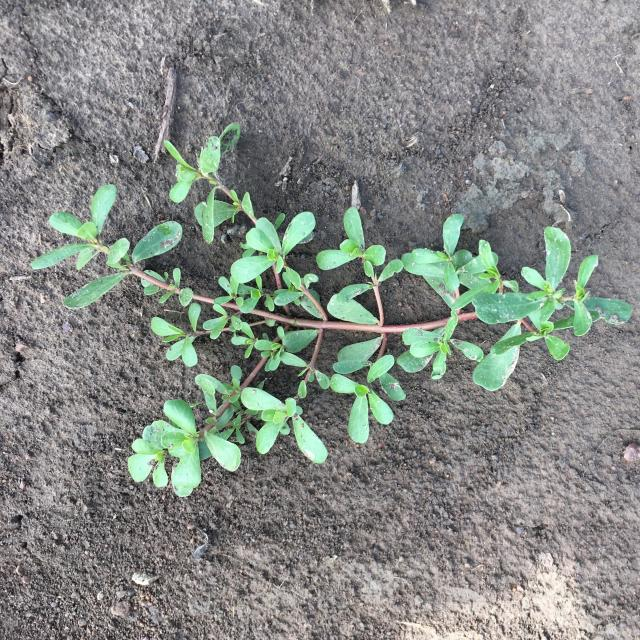Purslane: (29, 122, 634, 497)
